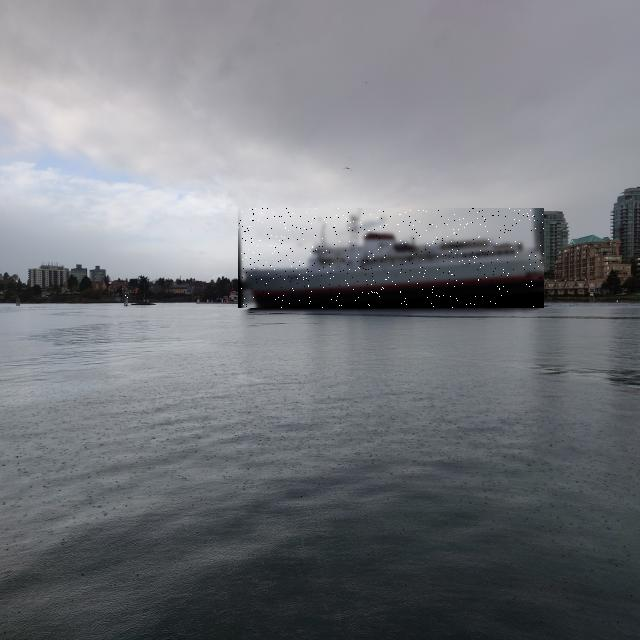boat: (238, 208, 544, 308)
mark: (124, 294, 128, 306), (16, 298, 20, 306)
